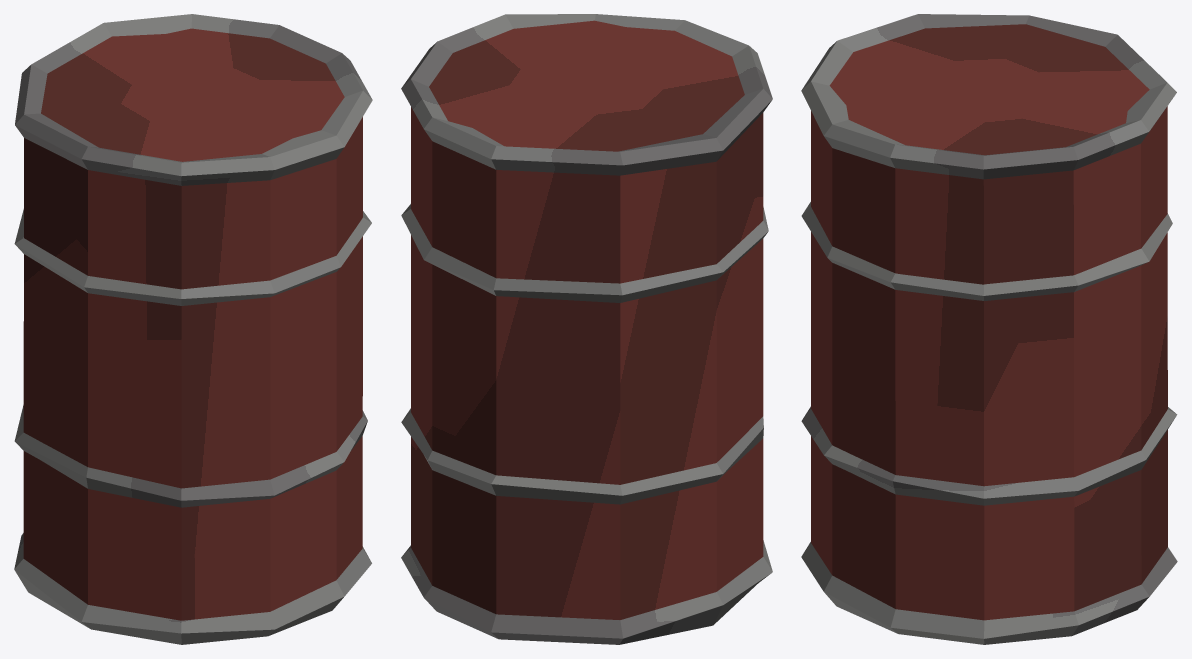
Rendered from barrel_coloured.glb.
The picture shows the model from 3 angles, left to right: view 1: azimuth 30°, elevation 25°; view 2: azimuth 150°, elevation 25°; view 3: azimuth 270°, elevation 25°; orthographic projection. The views are drawn at different scales.
Visible parts, largest first — view 1: SM_Prop_Barrel_Coloured_01; view 2: SM_Prop_Barrel_Coloured_01; view 3: SM_Prop_Barrel_Coloured_01.
Part boxes in pixels (<box>): SM_Prop_Barrel_Coloured_01: <box>14,14,372,644</box>; SM_Prop_Barrel_Coloured_01: <box>401,14,772,644</box>; SM_Prop_Barrel_Coloured_01: <box>801,14,1177,644</box>.
Bounding box in the file's own units: 0.7052 × 1.05 × 0.7261.
Materials: 1 (1 with a texture image).
